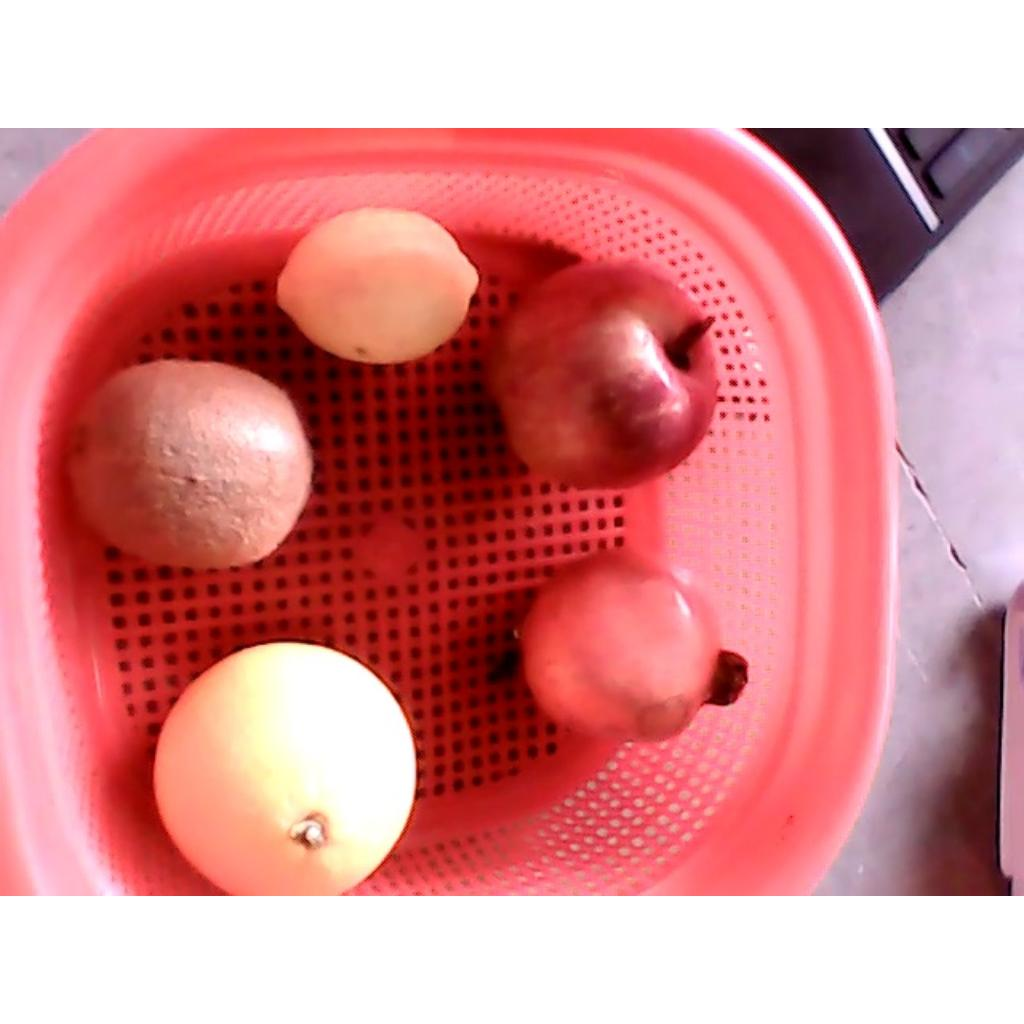apple: (483, 259, 722, 493)
kiwi: (65, 357, 313, 571)
lemon: (275, 209, 480, 363)
orange: (151, 641, 418, 894)
pomegranate: (514, 546, 751, 746)
